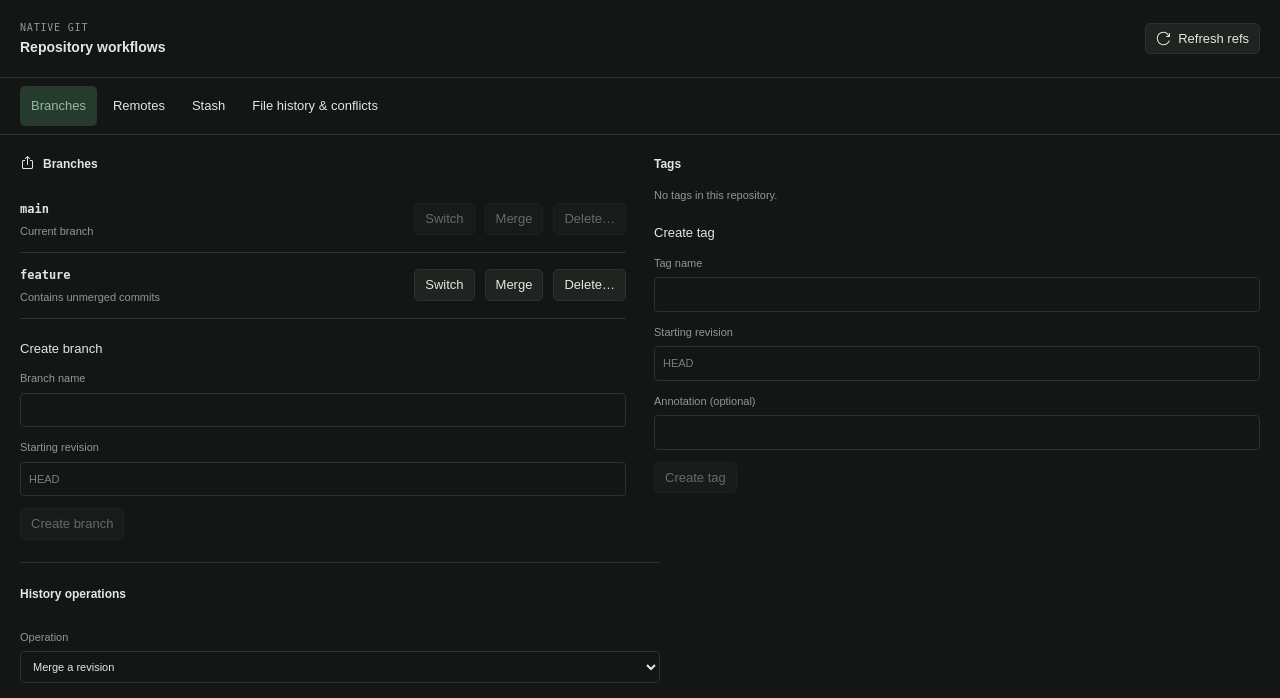
Test: Git workflow confirmations › sends the server confirmation token and preserves a stale-plan rejection
The width and height of the screenshot is (1280, 698).
Expected: the text "feature" is shown, [20,268,71,282]
Click the button "Delete…" in the row of "Contains unmerged commits" at [590, 285], box [553,269,626,301]
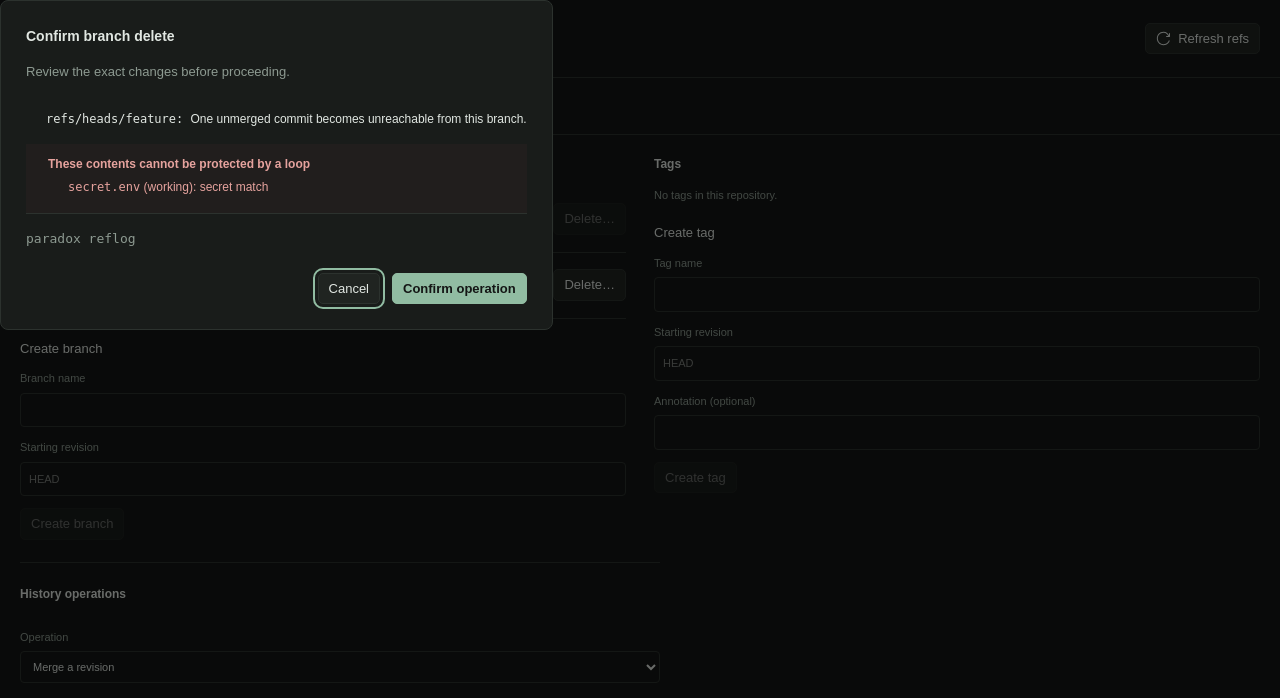
Click the button "Confirm operation" at [459, 288], box [392,273,527,304]
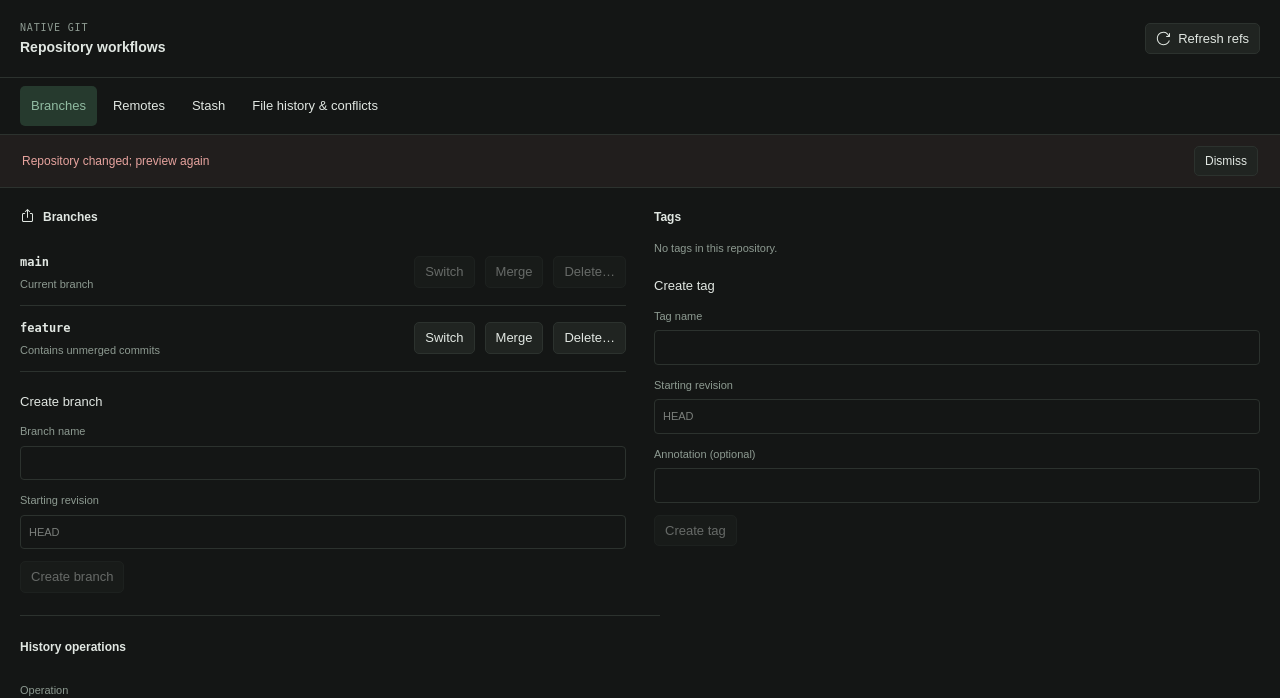
Expected: the message shows "Repository changed; preview again", [22,154,210,168]
